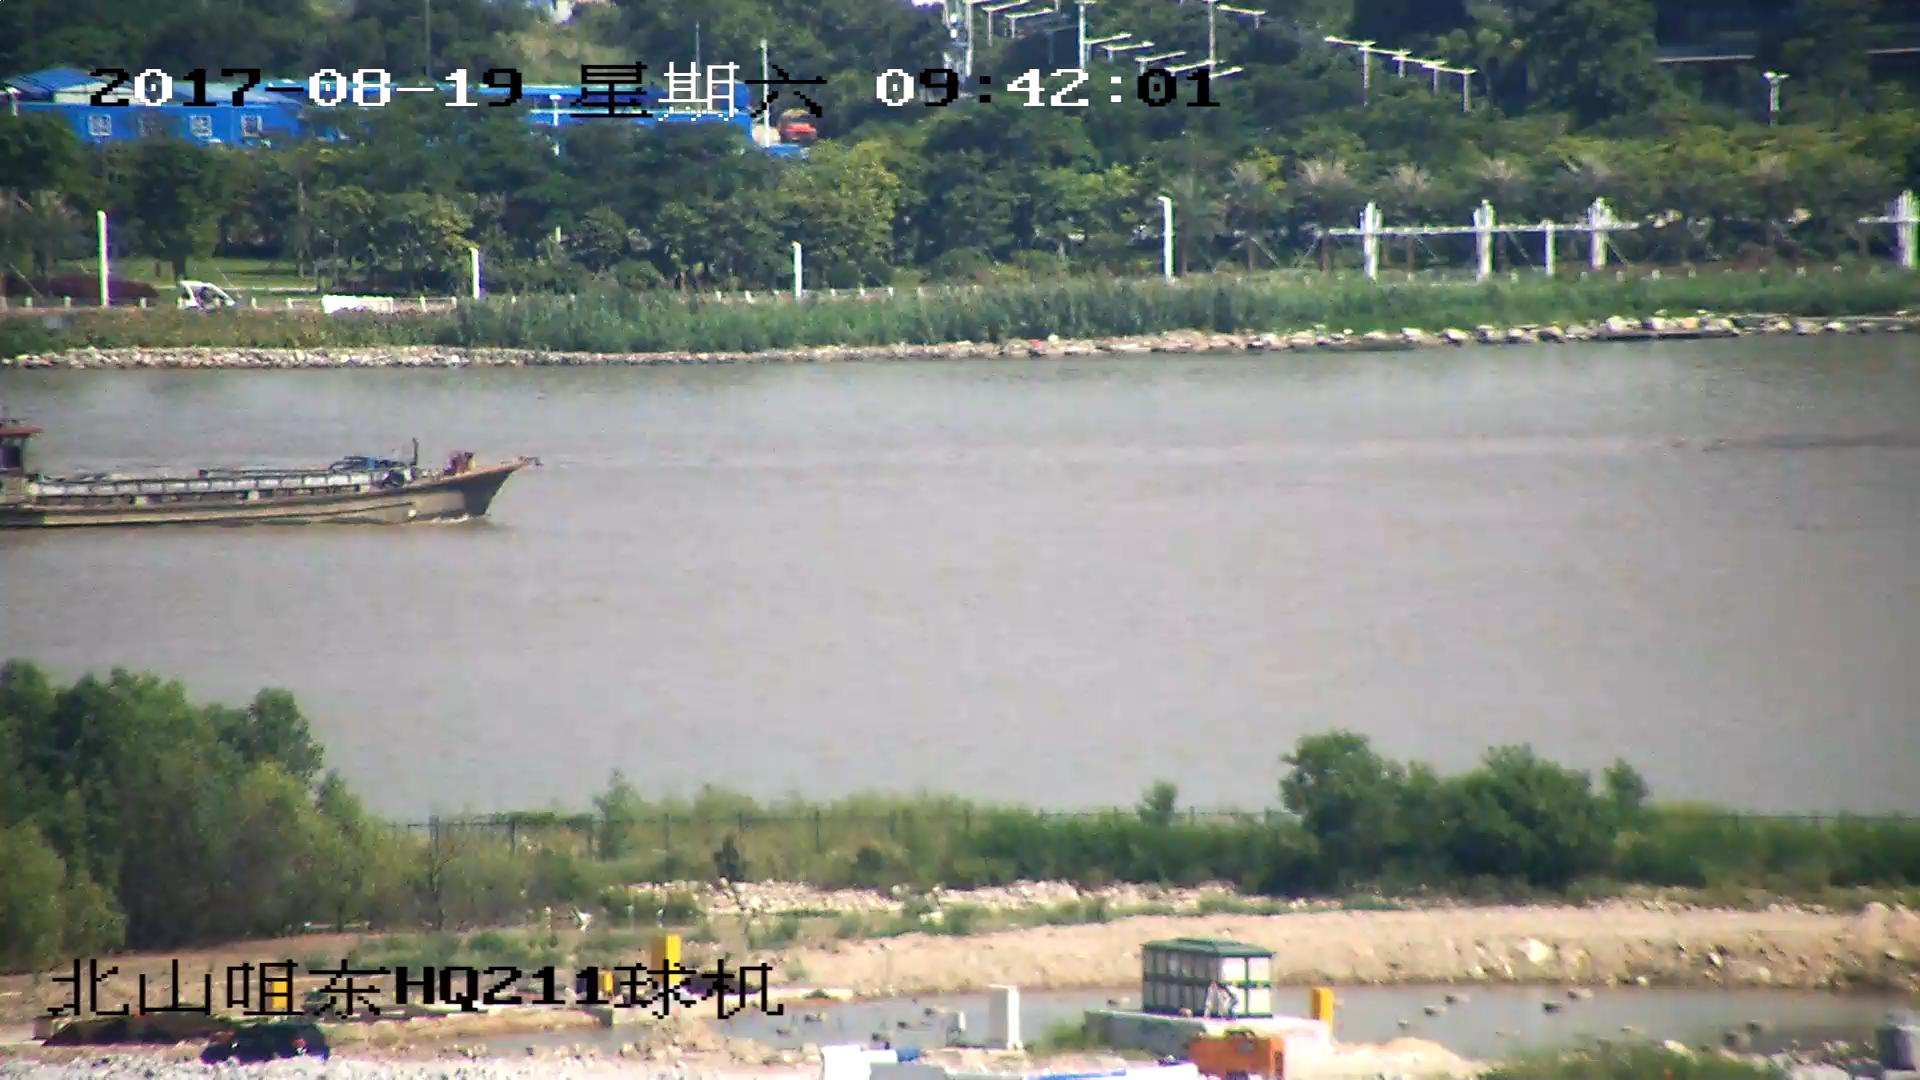fishing boat: (1, 417, 529, 531)
